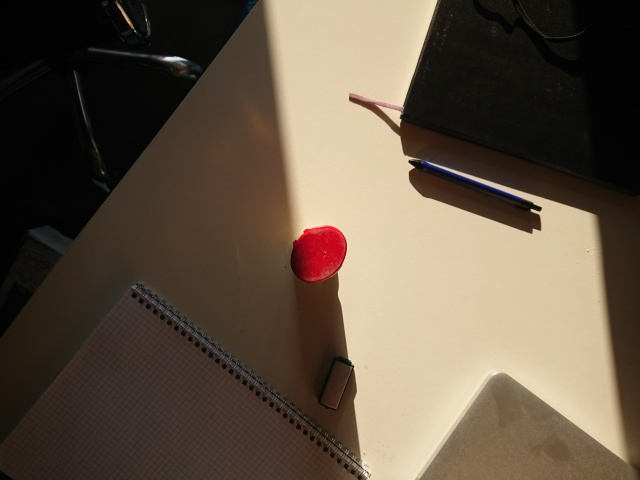Kotanyi Curry Spices Mix 70g: (289, 223, 349, 285)
